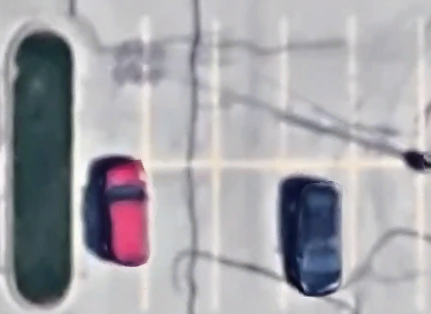Occupied: (75, 164, 146, 311), (282, 163, 353, 308)
Vacant: (145, 16, 217, 165), (352, 18, 423, 165), (75, 16, 145, 165), (146, 164, 218, 307), (217, 18, 285, 165), (352, 164, 421, 308), (284, 18, 351, 165), (216, 163, 283, 308)
